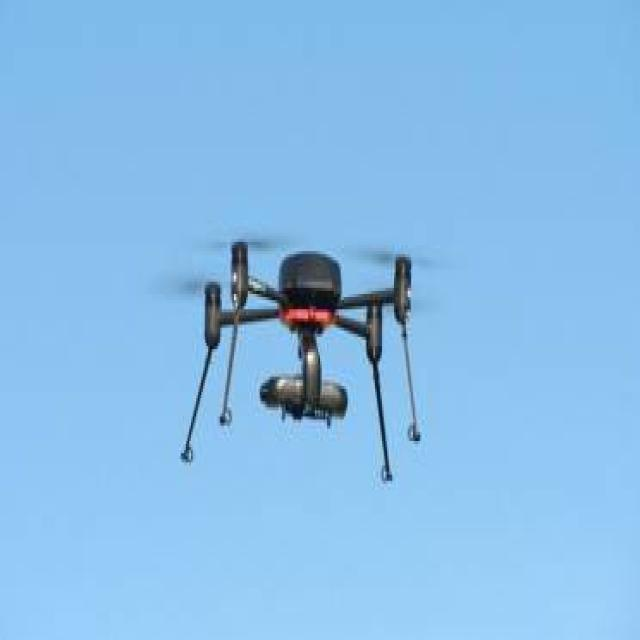drone: (162, 215, 476, 402)
